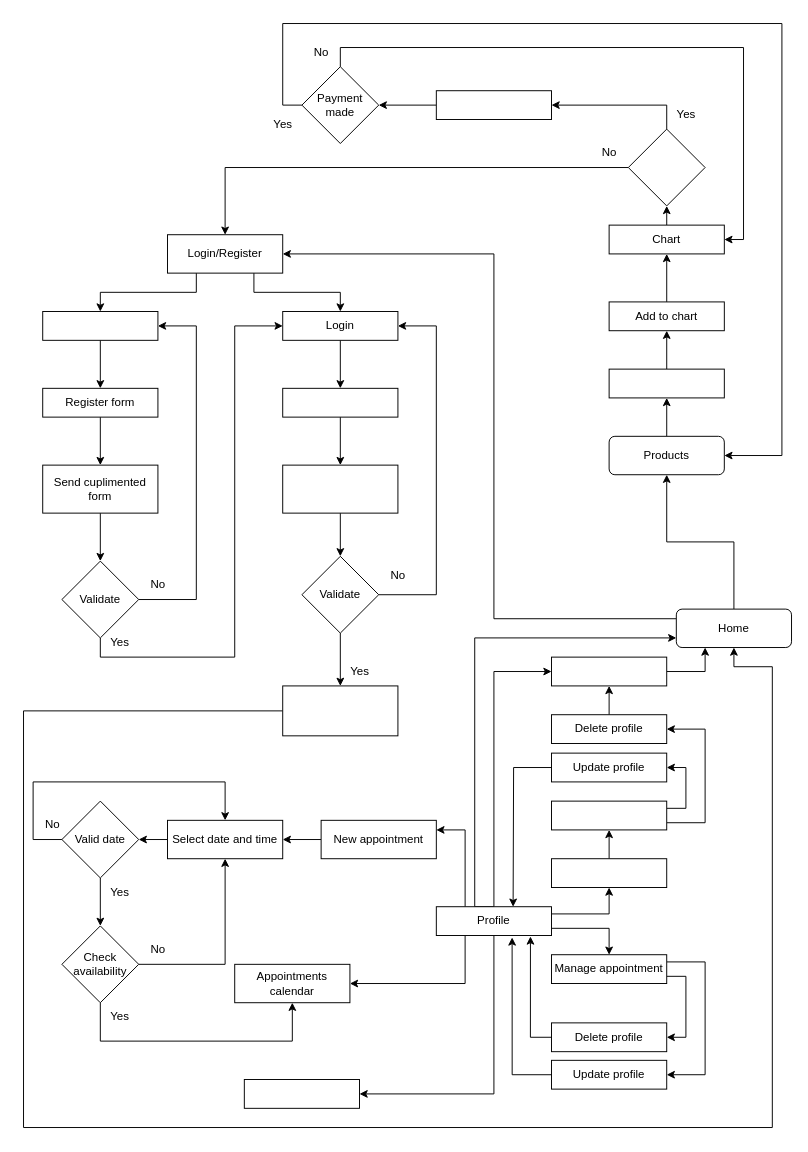
This 808x1152 diagram has some shape labels left out. Each missing label, with the centre of its shape:
Access (token acquisition): point (340, 710)
Data access: point (340, 402)
Edit profile: point (609, 815)
Have token: point (666, 167)
Invoices: point (301, 1093)
LogOut: point (609, 671)
Manage profile: point (609, 873)
Payment Gateway: point (493, 105)
Product select: point (666, 383)
Register: point (100, 325)
Send data access: point (340, 488)
